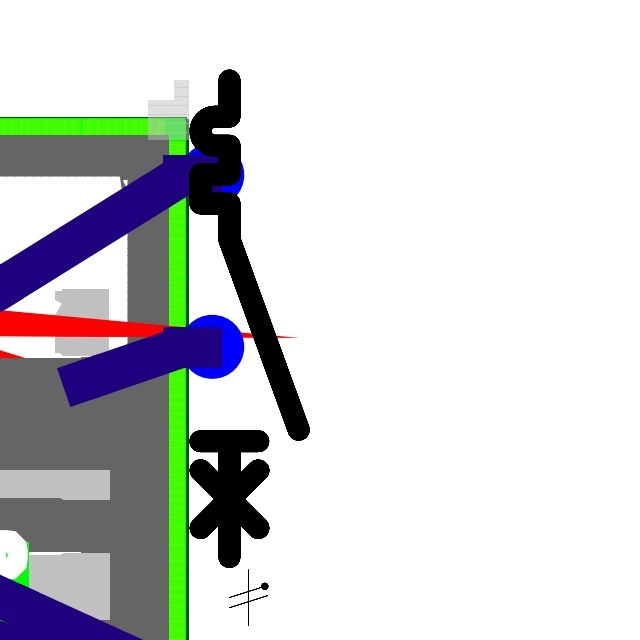interruptor_termomagnetico: (188, 68, 311, 569)
